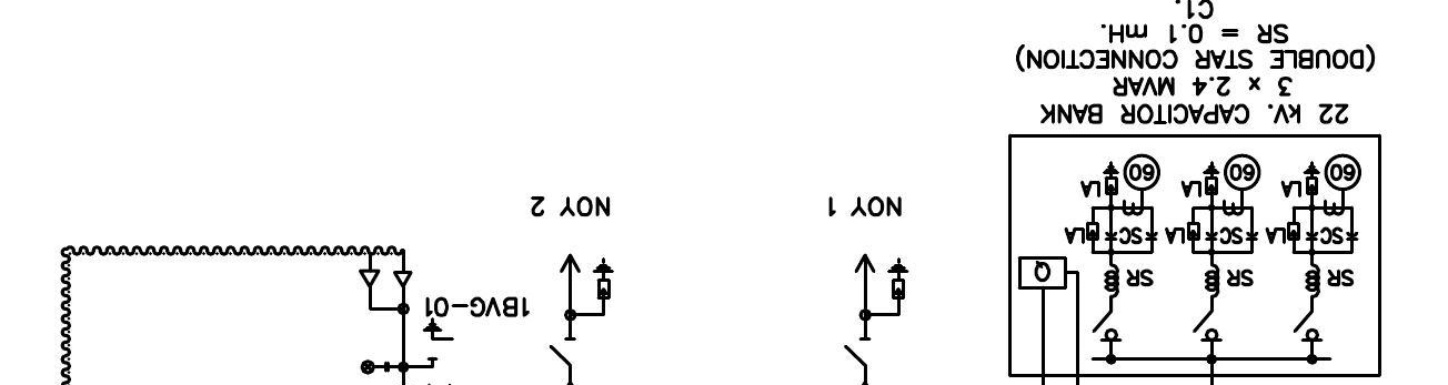22_cap_bank: (1007, 133, 1383, 378)
22_ds_la_out: (843, 253, 910, 366), (548, 253, 614, 366)
22_gs: (422, 317, 455, 361)
22_ll: (359, 358, 391, 376)
Q: (1017, 255, 1068, 290)
terminator_double: (358, 268, 414, 312)
